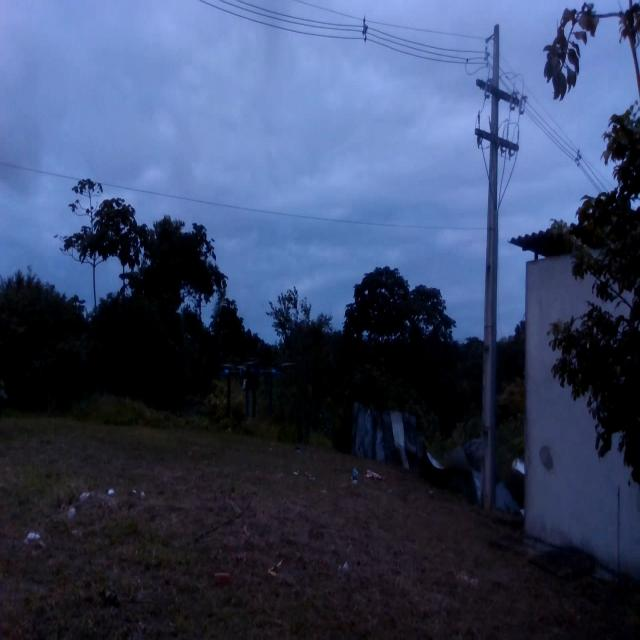-uav-: (219, 354, 290, 430)
